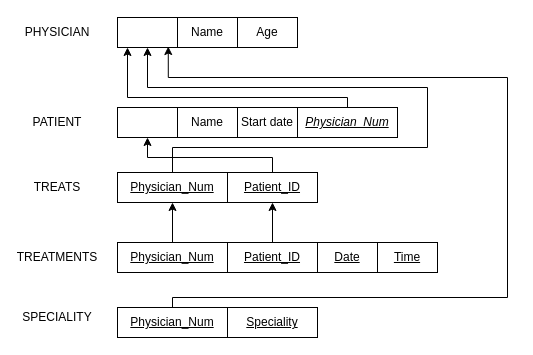
The diagram is 533 pixels wide and 355 high, and some of its shapes have lost their labels. The shapes that lost their labels are listed below. From the top down, each one's centre as x and y in pixels, then its label:
At (x=147, y=32): "Number".
At (x=147, y=122): "ID".
